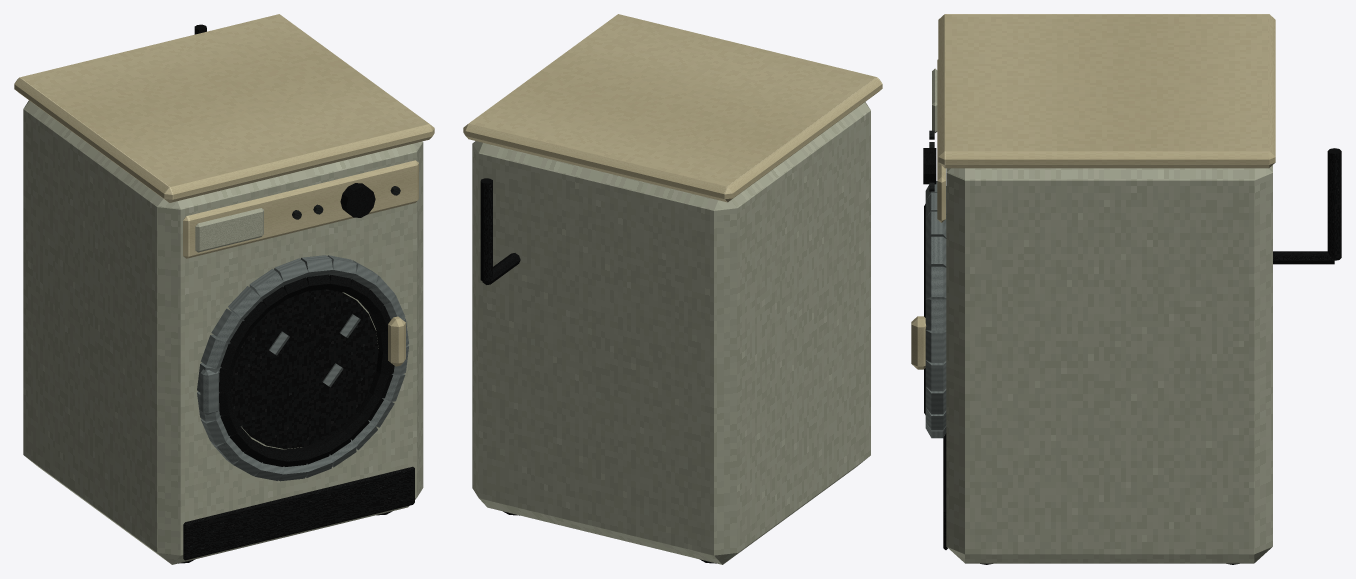
The model's file is level_laundry_washer.glb.
3 views of the same model, side by side, from view 1: azimuth 30°, elevation 25°; view 2: azimuth 150°, elevation 25°; view 3: azimuth 270°, elevation 25° (orthographic). The views are drawn at different scales.
Visible parts, largest first — view 1: level_laundry_washer; view 2: level_laundry_washer; view 3: level_laundry_washer.
Part boxes in pixels (bbox=[...]): level_laundry_washer: bbox=[14, 14, 434, 564]; level_laundry_washer: bbox=[463, 14, 882, 564]; level_laundry_washer: bbox=[911, 14, 1341, 564].
Size of the model in its own units: 0.63 by 0.8725 by 0.8035.
5 materials, 5 textured.
